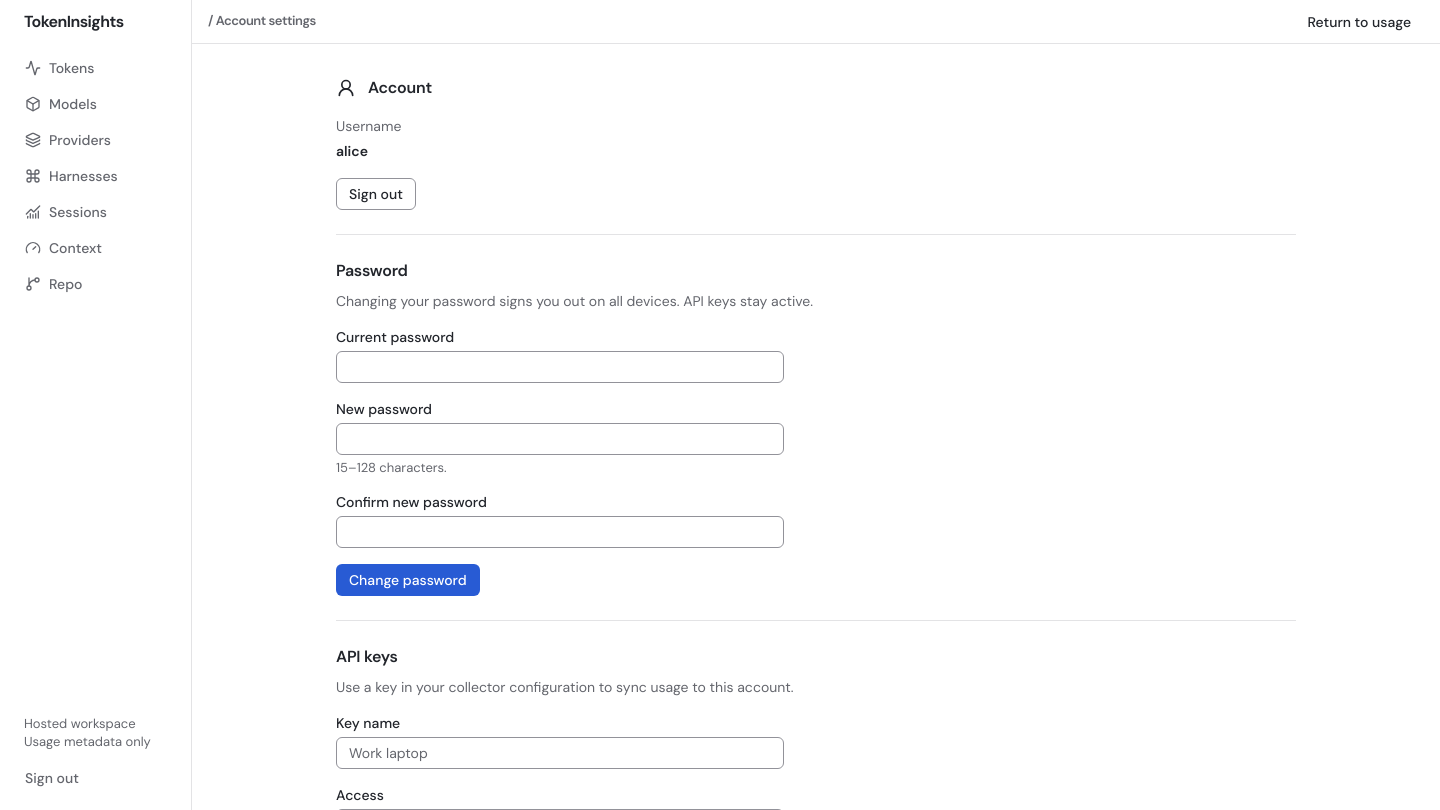
Test case: wrong current password preserves the session and allows retry
This screenshot has width=1440, height=810.
In the password field labelled "Current password": (560, 367) [336,351,784,383], type "wrong current password"
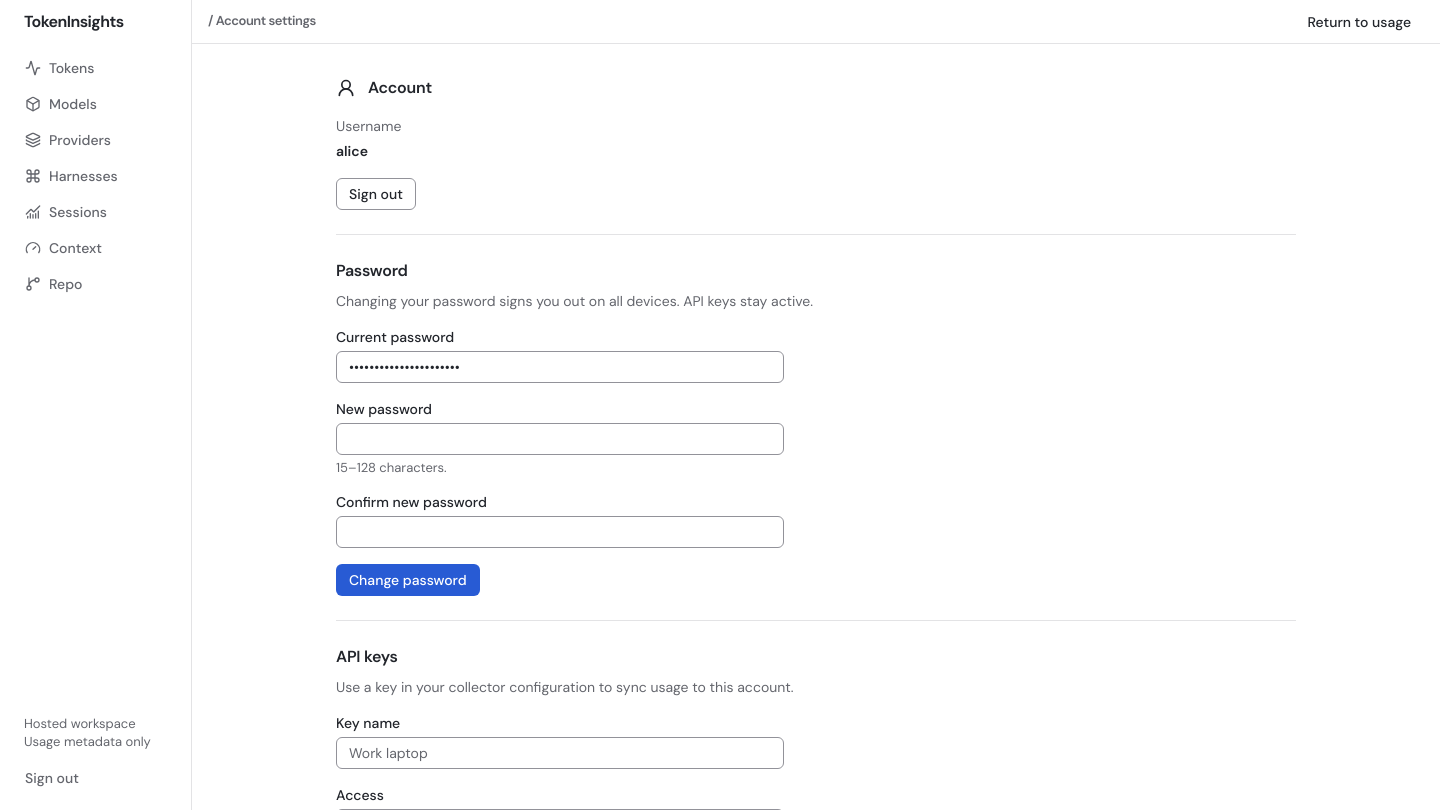
In the password field labelled "New password": (560, 439) [336,423,784,455], type "new password phrase"
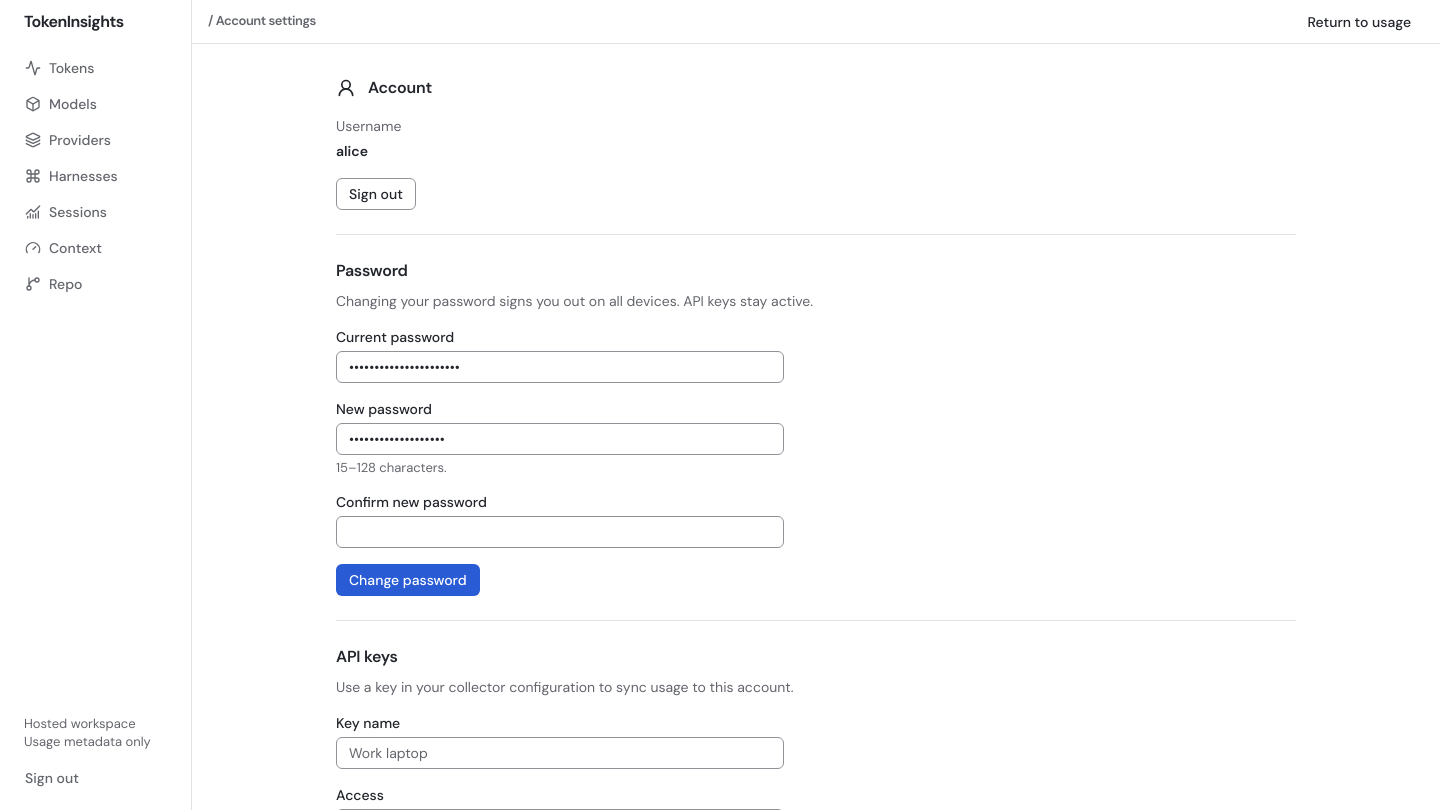
In the password field labelled "Confirm new password": (560, 532) [336,516,784,548], type "new password phrase"
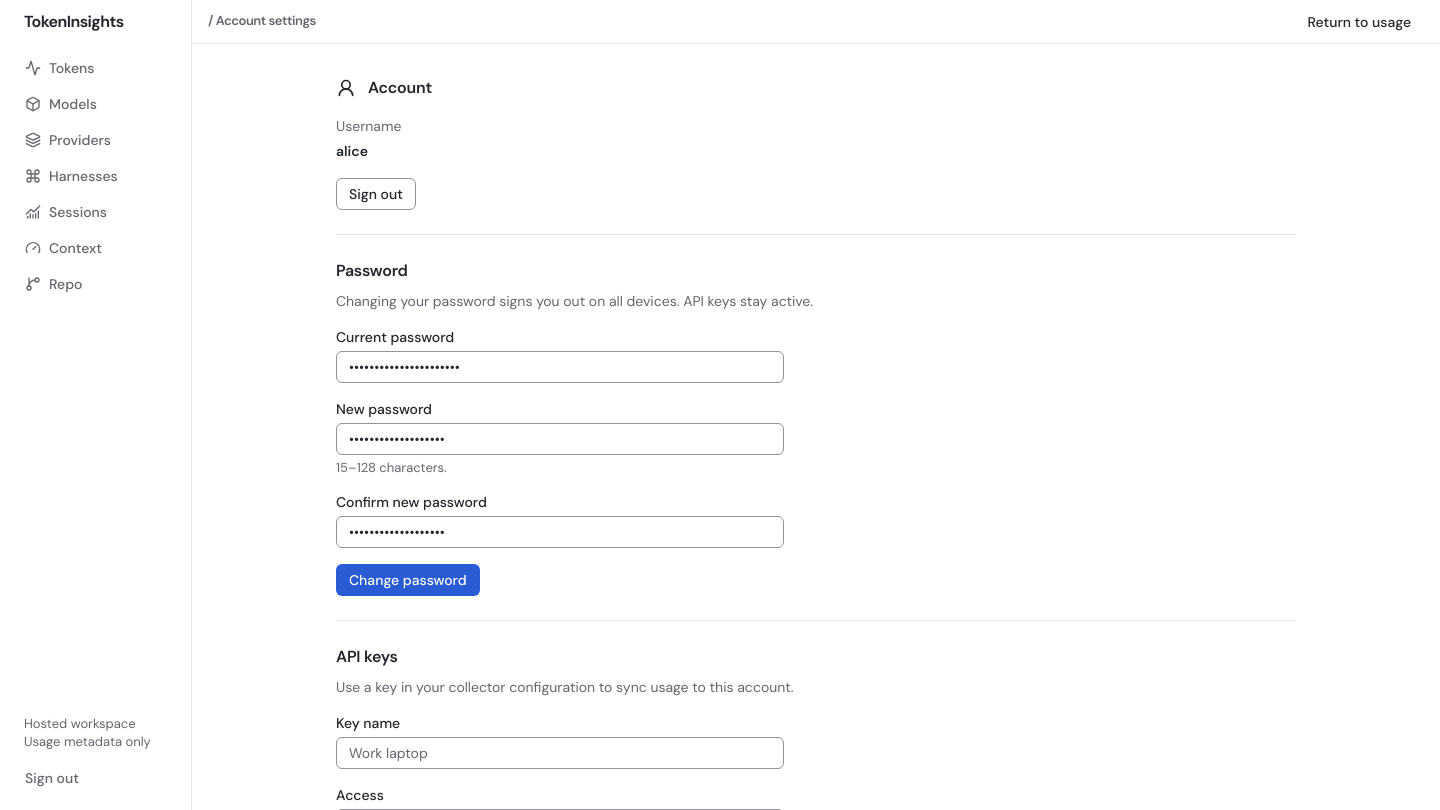
Click the button "Change password": (408, 580) [336,564,480,596]
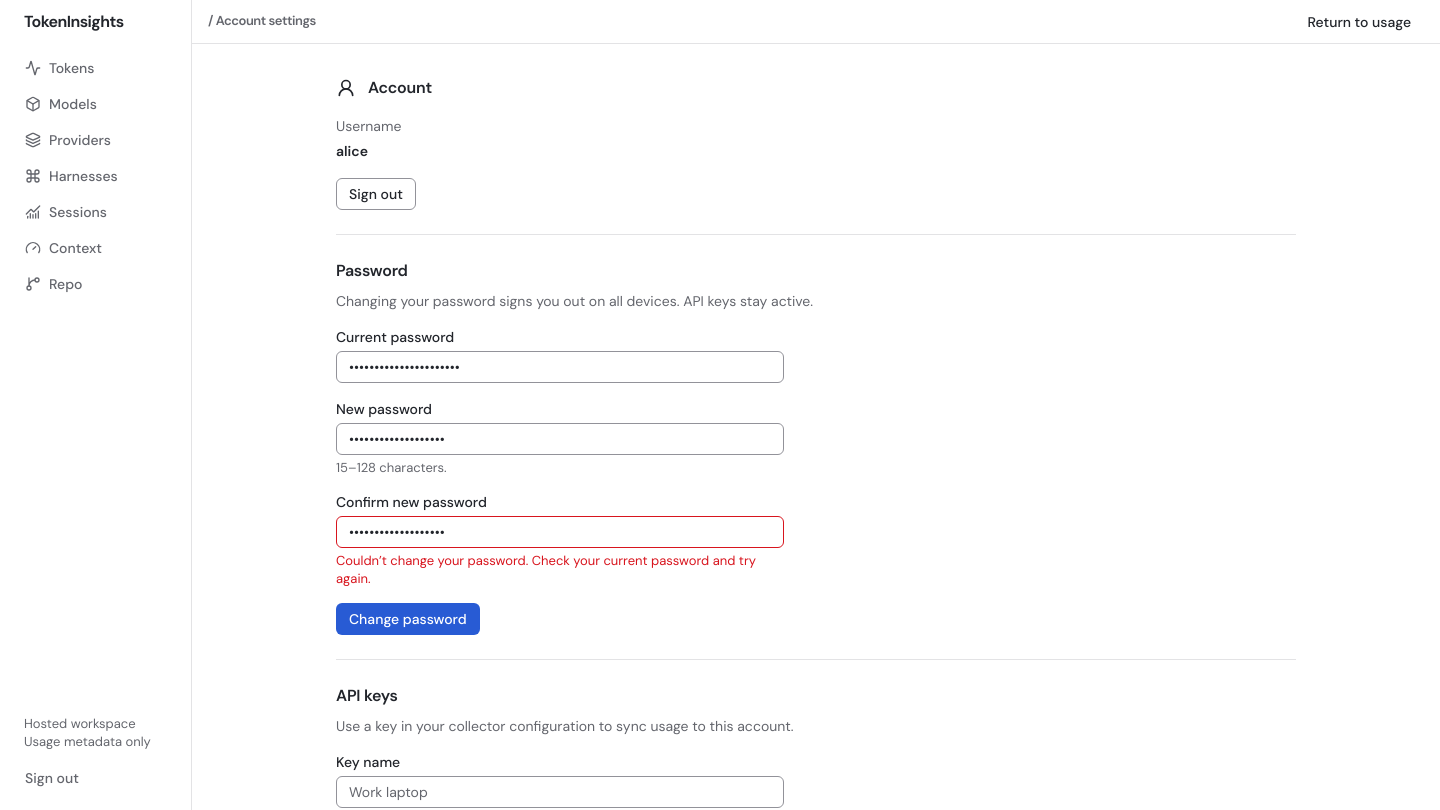
Check: the heading "Account" is shown, box [368,76,432,100]
Check: the message shows "Check your current password and try again.", box [336,552,756,587]
